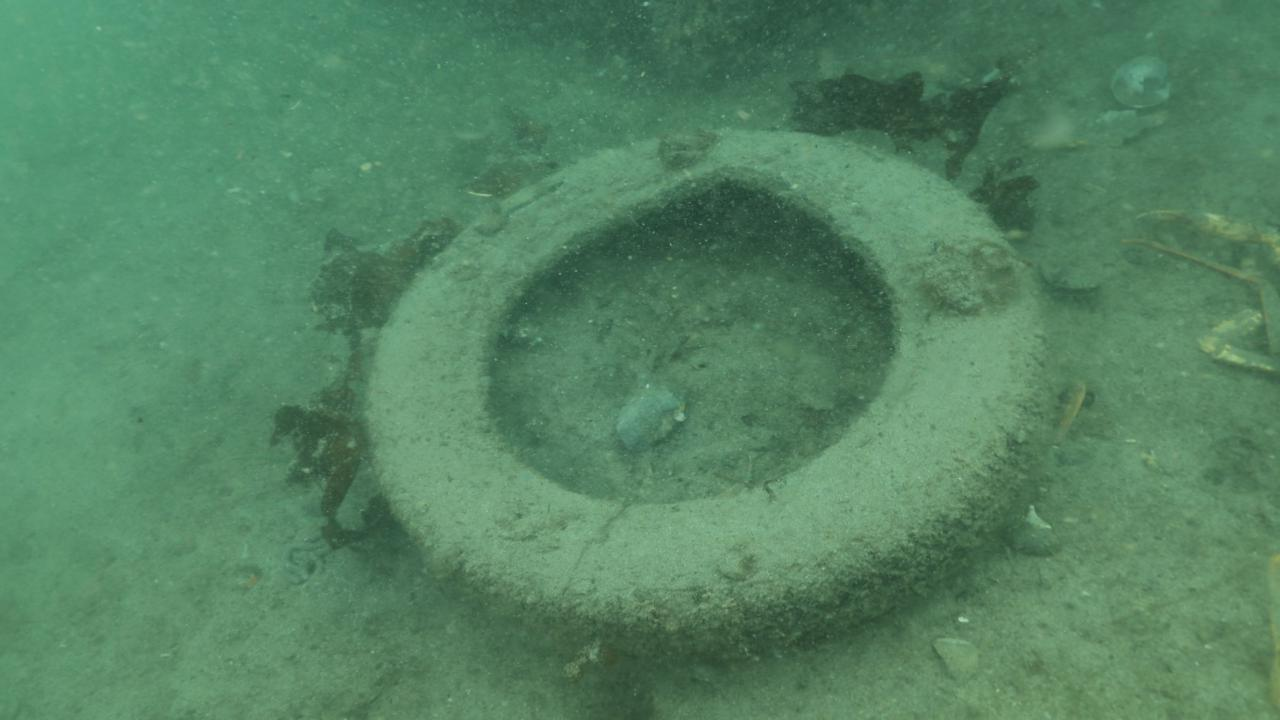tire: (362, 125, 1058, 673)
